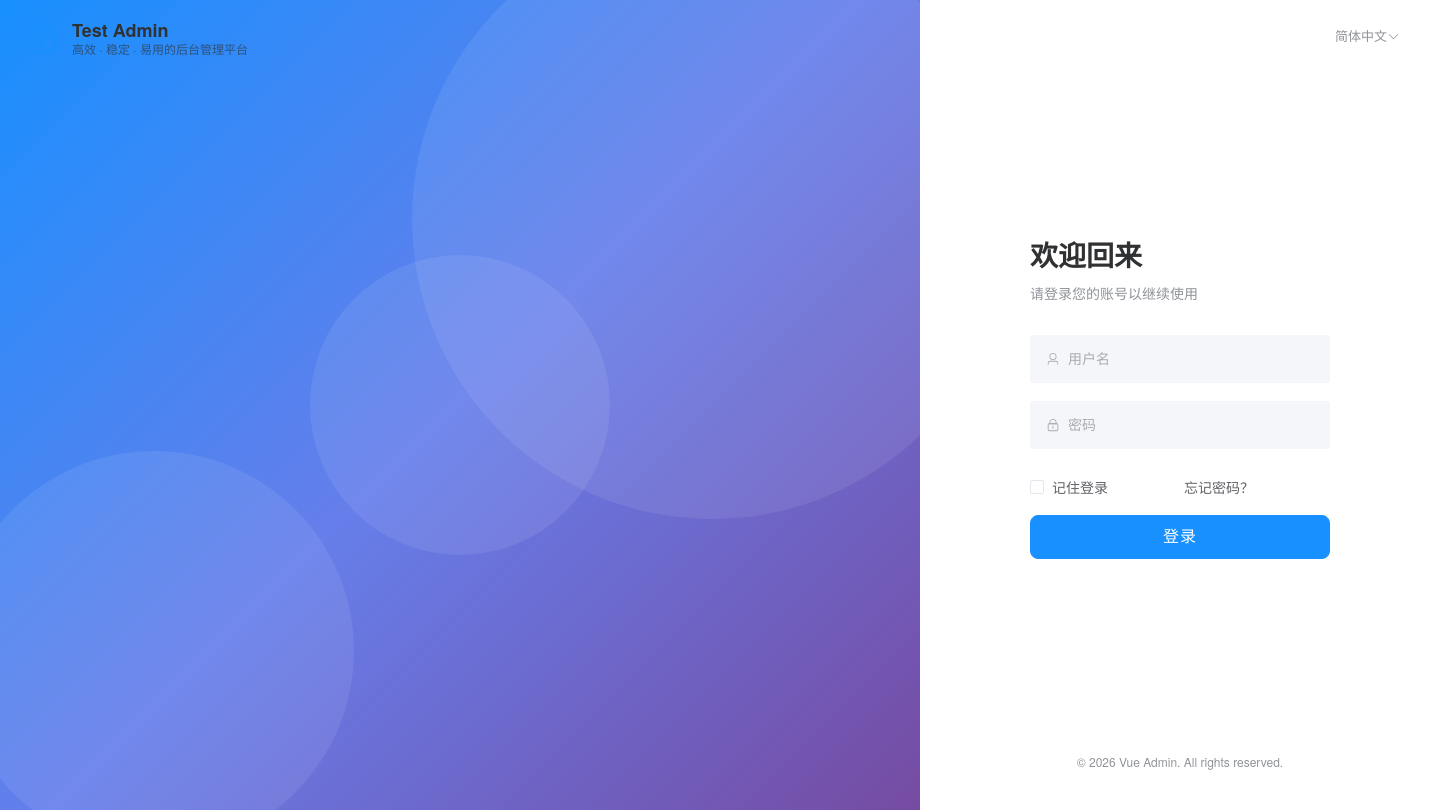
Test: Login.vue › 点击忘记密码打开对话框
The image size is (1440, 810).
Click the link "忘记密码？": (1219,486) x1=1184 y1=476 x2=1254 y2=496
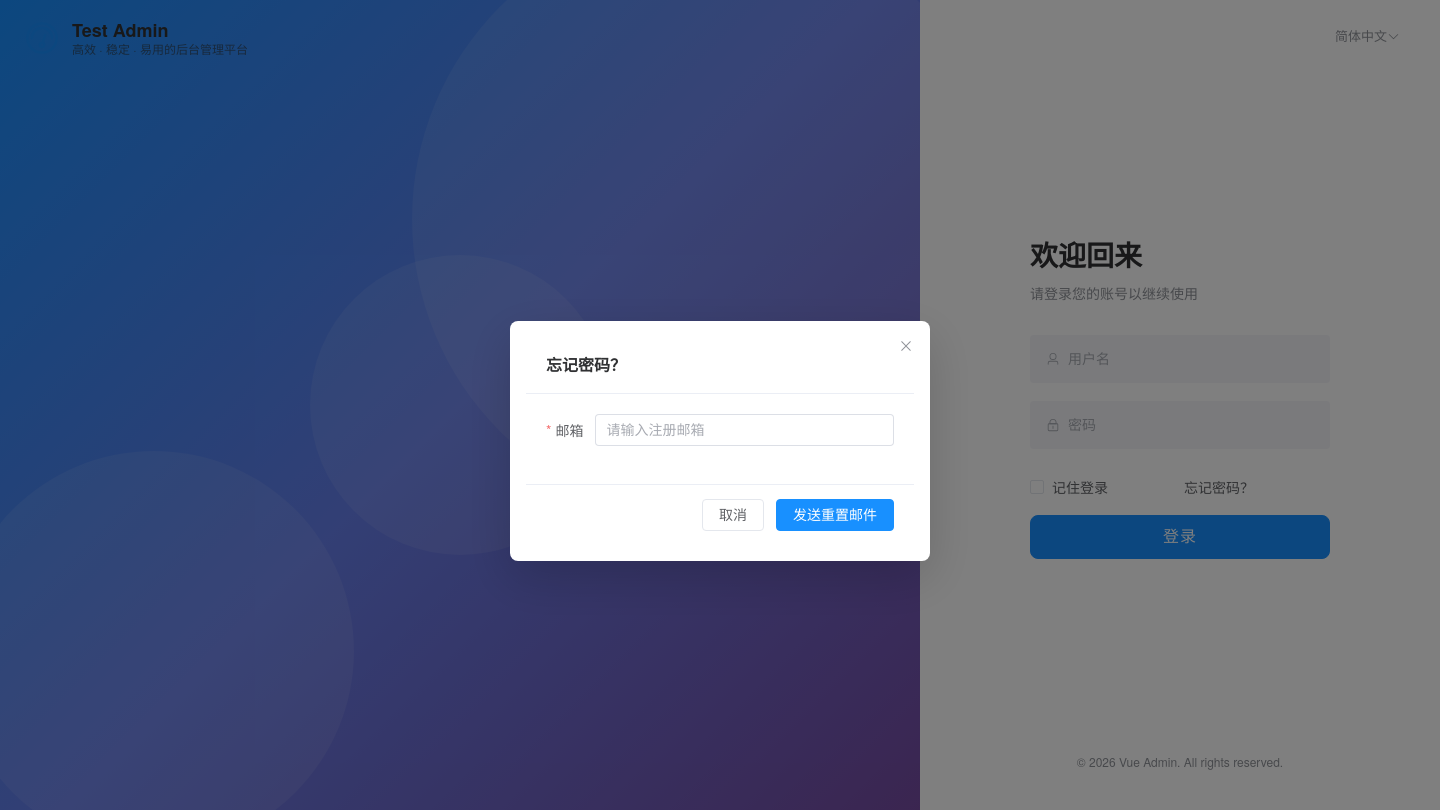
Result: the element showing "忘记密码？ 邮箱 取消 发送重置邮件" is shown at x1=510 y1=321 x2=930 y2=561
